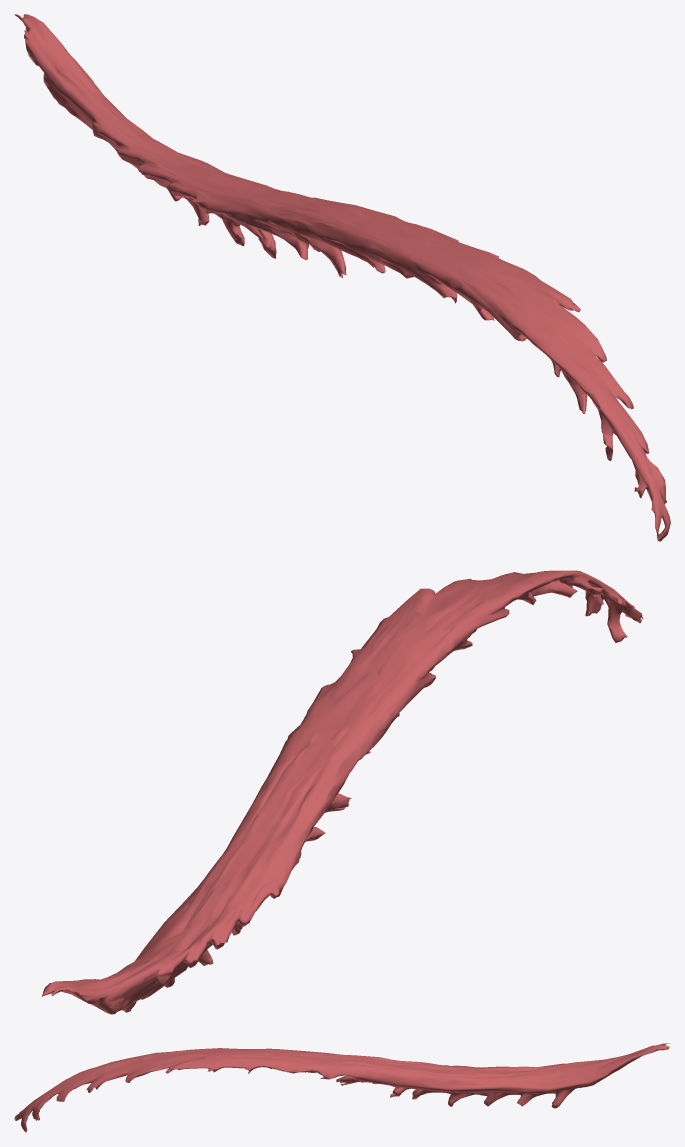
3 renders of one model, top to bottom at view 1: azimuth 30°, elevation 25°; view 2: azimuth 150°, elevation 25°; view 3: azimuth 270°, elevation 25°, orthographic. The views are drawn at different scales.
Visible parts, largest first — view 1: 左侧胸最长肌; view 2: 左侧胸最长肌; view 3: 左侧胸最长肌.
Part boxes in pixels (x1,y1,x2,y2): 左侧胸最长肌: [14, 14, 670, 541]; 左侧胸最长肌: [42, 570, 643, 1014]; 左侧胸最长肌: [14, 1043, 670, 1132].
Size of the model in its own units: 0.1062 by 0.1087 by 0.8078.
